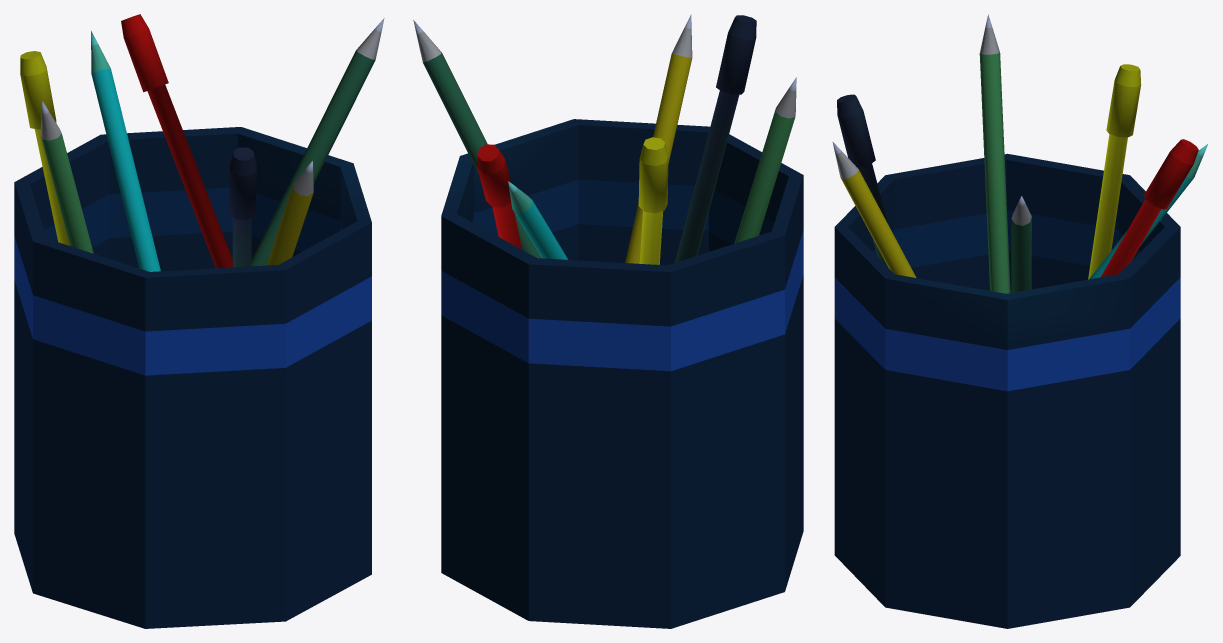
File: PencilCan.fbx
3 views of the same model, side by side, from view 1: azimuth 30°, elevation 25°; view 2: azimuth 150°, elevation 25°; view 3: azimuth 270°, elevation 25° (orthographic). The views are drawn at different scales.
Parts seen in each view (by area): view 1: PencilCan; view 2: PencilCan; view 3: PencilCan.
Part boxes in pixels (left/top/right/bottom): PencilCan: left=14, top=14, right=384, bottom=628; PencilCan: left=413, top=14, right=803, bottom=628; PencilCan: left=832, top=14, right=1207, bottom=628.
Size of the model in its own units: 10.28 by 13.66 by 9.94.
